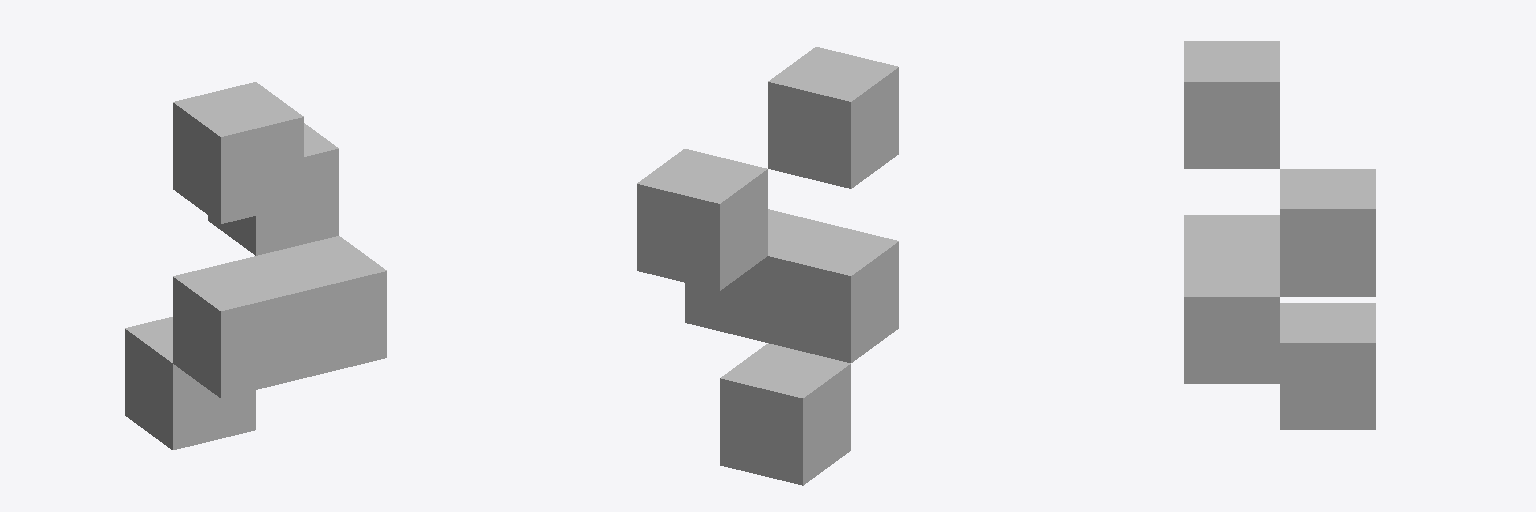
Rendered from CampfireParticle.obj.
The picture shows the model from 3 angles: view 1: azimuth 30°, elevation 25°; view 2: azimuth 150°, elevation 25°; view 3: azimuth 270°, elevation 25°; orthographic projection.
Parts seen in each view (by area): view 1: Untitled; view 2: Untitled; view 3: Untitled.
Part boxes in pixels (x1,y1,x2,y2): Untitled: (125, 82, 386, 449); Untitled: (637, 47, 898, 485); Untitled: (1184, 41, 1375, 429).
Bounding box in the file's own units: 0.2 × 0.4 × 0.2.